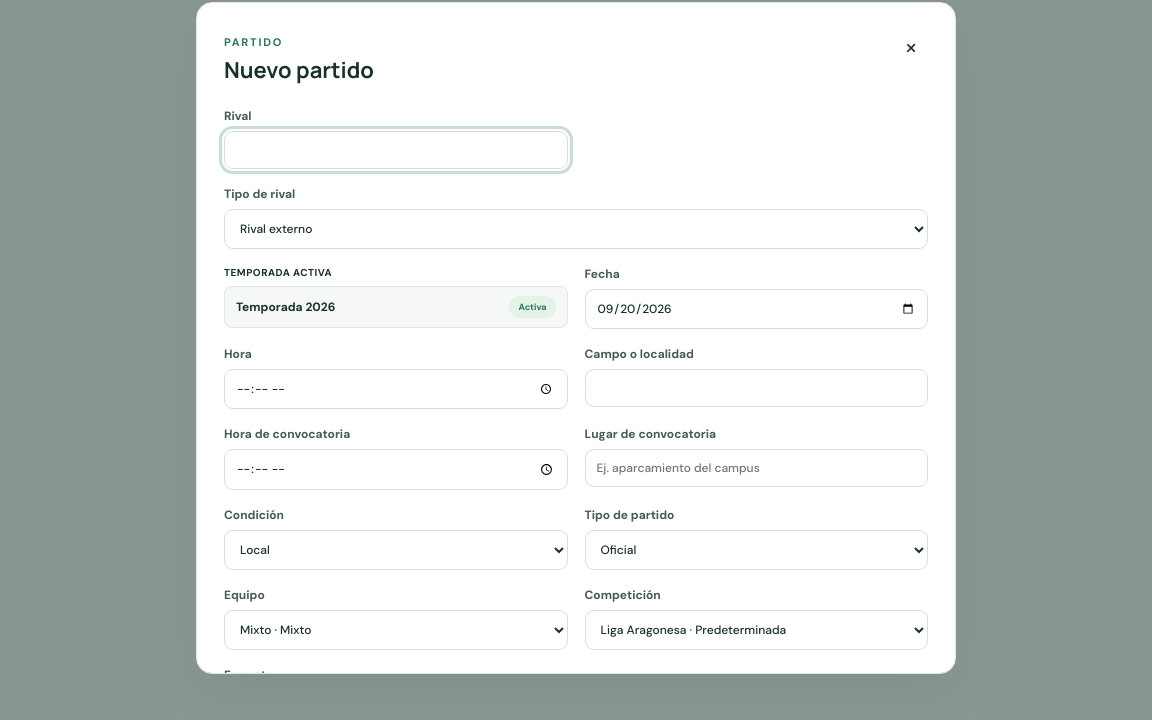
MatchForm competitions › excludes the mixed group from both sides of an internal match
Select "Otro equipo del CDU" in the dropdown labelled "Tipo de rival" at {"x": 576, "y": 228}, box [224,208,928,248]
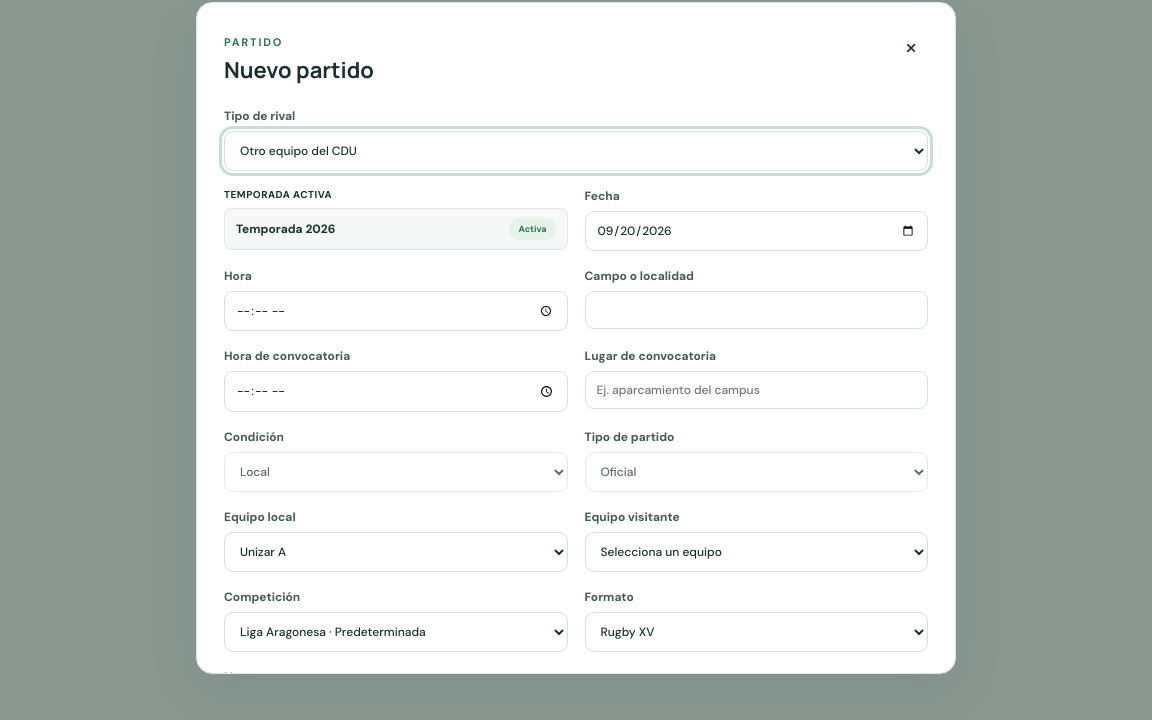
Check: the option "Mixto · Mixto" is not shown
Check: the dropdown labelled "Equipo local" shows "Unizar A", box [224,532,568,572]
